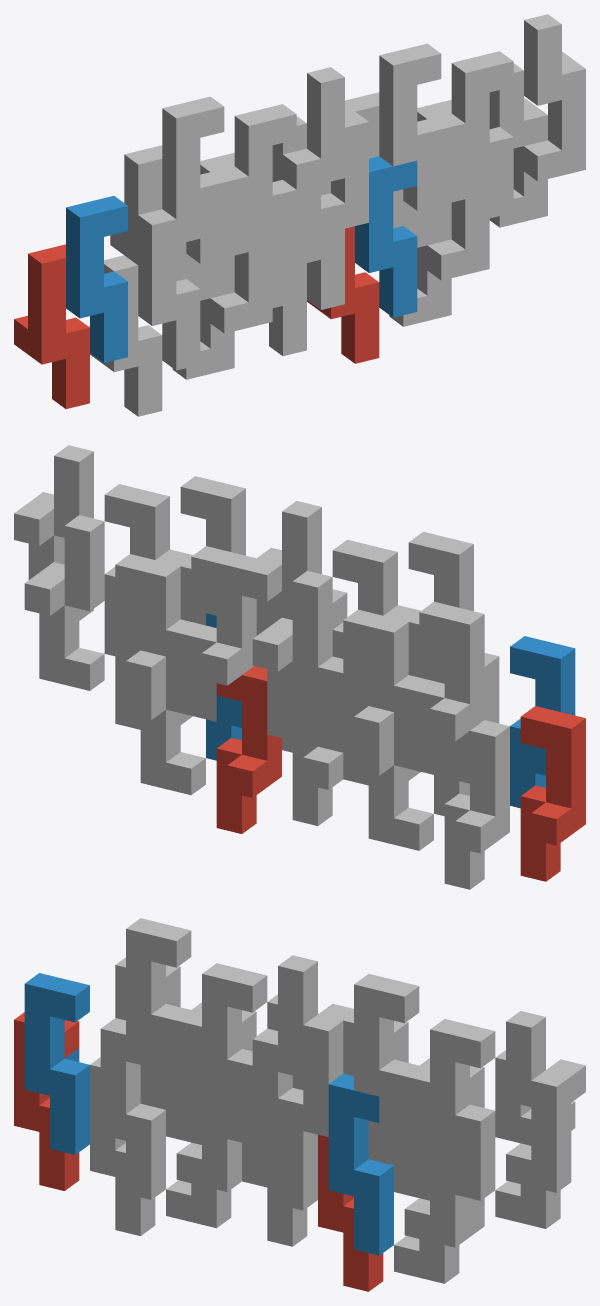
Rendered from tiling.obj.
3 renders of one model, top to bottom at view 1: azimuth 30°, elevation 25°; view 2: azimuth 150°, elevation 25°; view 3: azimuth 330°, elevation 25°, orthographic. The views are drawn at different scales.
Parts seen in each view (by area): view 1: copy_3_domain_8, copy_1_domain_2, copy_2_domain_2, copy_1_domain_8, copy_1_domain_4, copy_1_domain_1, copy_3_domain_4, copy_2_domain_6, copy_3_domain_2, copy_3_domain_6, copy_2_domain_4, copy_2_domain_8 (+12 smaller); view 2: copy_3_domain_7, copy_1_domain_1, copy_1_domain_3, copy_2_domain_1, copy_3_domain_3, copy_1_domain_7, copy_3_domain_1, copy_3_domain_5, copy_2_domain_5, copy_2_domain_7, copy_2_domain_3, copy_1_domain_5 (+12 smaller); view 3: copy_3_domain_8, copy_2_domain_8, copy_1_domain_2, copy_3_domain_4, copy_2_domain_6, copy_2_domain_2, copy_1_domain_4, copy_1_domain_8, copy_2_domain_4, copy_1_domain_6, copy_3_domain_2, copy_3_domain_6 (+12 smaller).
Part boxes in pixels (box(x1,y1,x2,y2)): copy_3_domain_8: box(524, 14, 585, 181); copy_1_domain_2: box(66, 196, 127, 362); copy_2_domain_2: box(138, 209, 200, 370); copy_1_domain_8: box(379, 43, 441, 210); copy_1_domain_4: box(162, 96, 224, 263); copy_1_domain_1: box(14, 244, 89, 408); copy_3_domain_4: box(307, 67, 368, 234); copy_2_domain_6: box(355, 156, 417, 317); copy_3_domain_2: box(210, 166, 272, 333); copy_3_domain_6: box(427, 113, 489, 280); copy_2_domain_4: box(234, 104, 296, 271); copy_2_domain_8: box(451, 51, 513, 218); copy_3_domain_7: box(24, 515, 104, 690); copy_1_domain_1: box(520, 706, 585, 881); copy_1_domain_3: box(419, 601, 484, 777); copy_2_domain_1: box(444, 720, 509, 889); copy_3_domain_3: box(252, 570, 332, 746); copy_1_domain_7: box(191, 546, 256, 721); copy_3_domain_1: box(354, 675, 433, 850); copy_3_domain_5: box(126, 619, 205, 795); copy_2_domain_5: box(216, 666, 281, 833); copy_2_domain_7: box(115, 554, 180, 729); copy_2_domain_3: box(343, 609, 408, 785); copy_1_domain_5: box(292, 656, 343, 825); copy_3_domain_8: box(506, 1011, 585, 1192); copy_2_domain_8: box(430, 1019, 495, 1200); copy_1_domain_2: box(24, 973, 89, 1154); copy_3_domain_4: box(278, 955, 353, 1137); copy_2_domain_6: box(328, 1073, 393, 1255); copy_2_domain_2: box(100, 1018, 165, 1199); copy_1_domain_4: box(126, 918, 191, 1099); copy_1_domain_8: box(354, 974, 419, 1155); copy_2_domain_4: box(202, 963, 267, 1145); copy_1_domain_6: box(252, 1028, 317, 1210); copy_3_domain_2: box(176, 1010, 241, 1191); copy_3_domain_6: box(404, 1065, 469, 1247).
Bounding box in the file's own units: 22 × 12 × 3.
